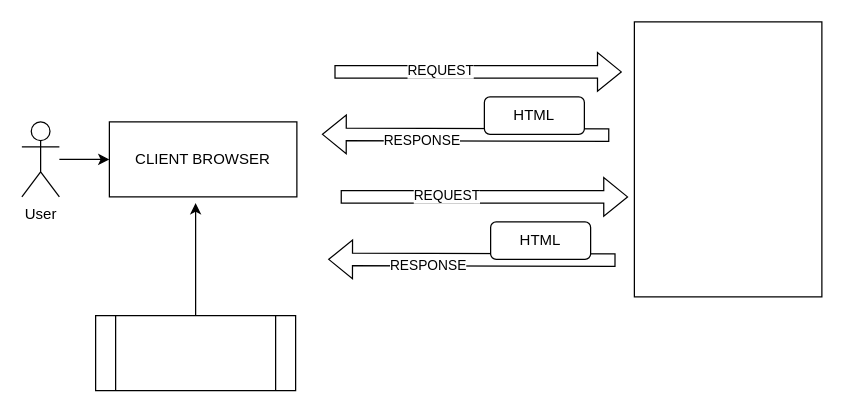
This 844x413 diagram has some shape labels left out. Each missing label, with the centre of its shape:
JavaScript makes this more 'reactive': point (195, 352)
SERVER: point (727, 159)
